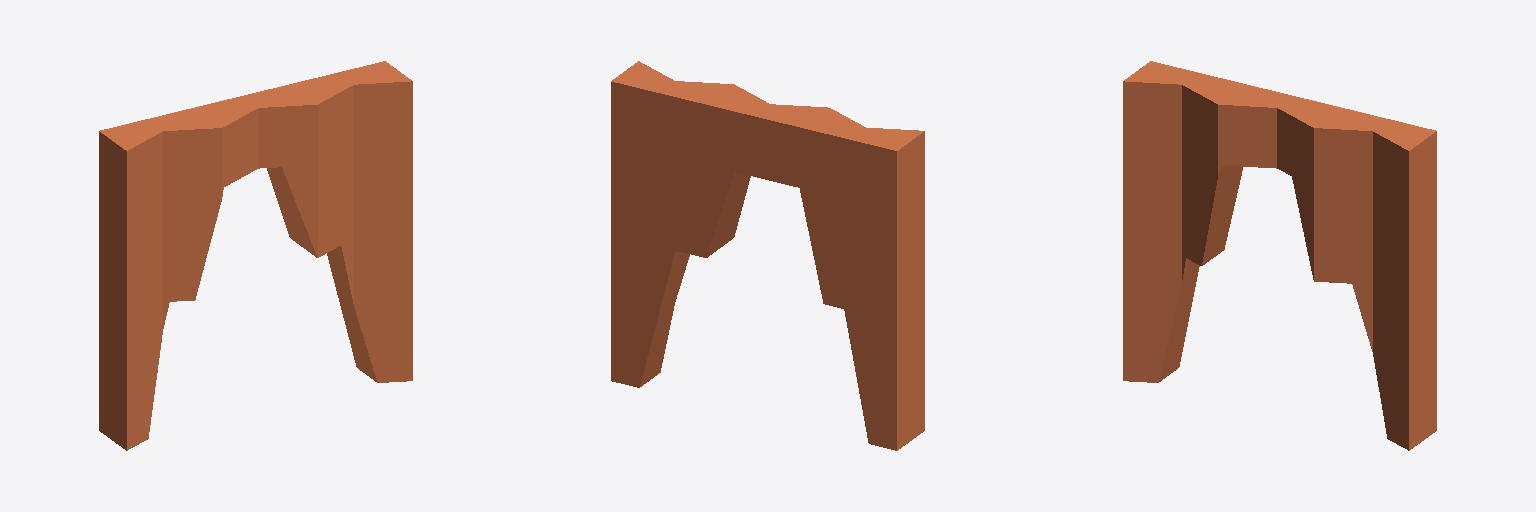
File: cliff_cave_rock.obj
3 renders of one model, left to right at view 1: azimuth 30°, elevation 25°; view 2: azimuth 150°, elevation 25°; view 3: azimuth 330°, elevation 25°, orthographic.
Parts seen in each view (by area): view 1: cliff_cave_rock; view 2: cliff_cave_rock; view 3: cliff_cave_rock.
Boxes of the visible parts, <box> form: cliff_cave_rock: <box>99,61,412,450</box>; cliff_cave_rock: <box>611,61,924,450</box>; cliff_cave_rock: <box>1123,61,1436,450</box>.
Bounding box in the file's own units: 1 × 1 × 0.1685.